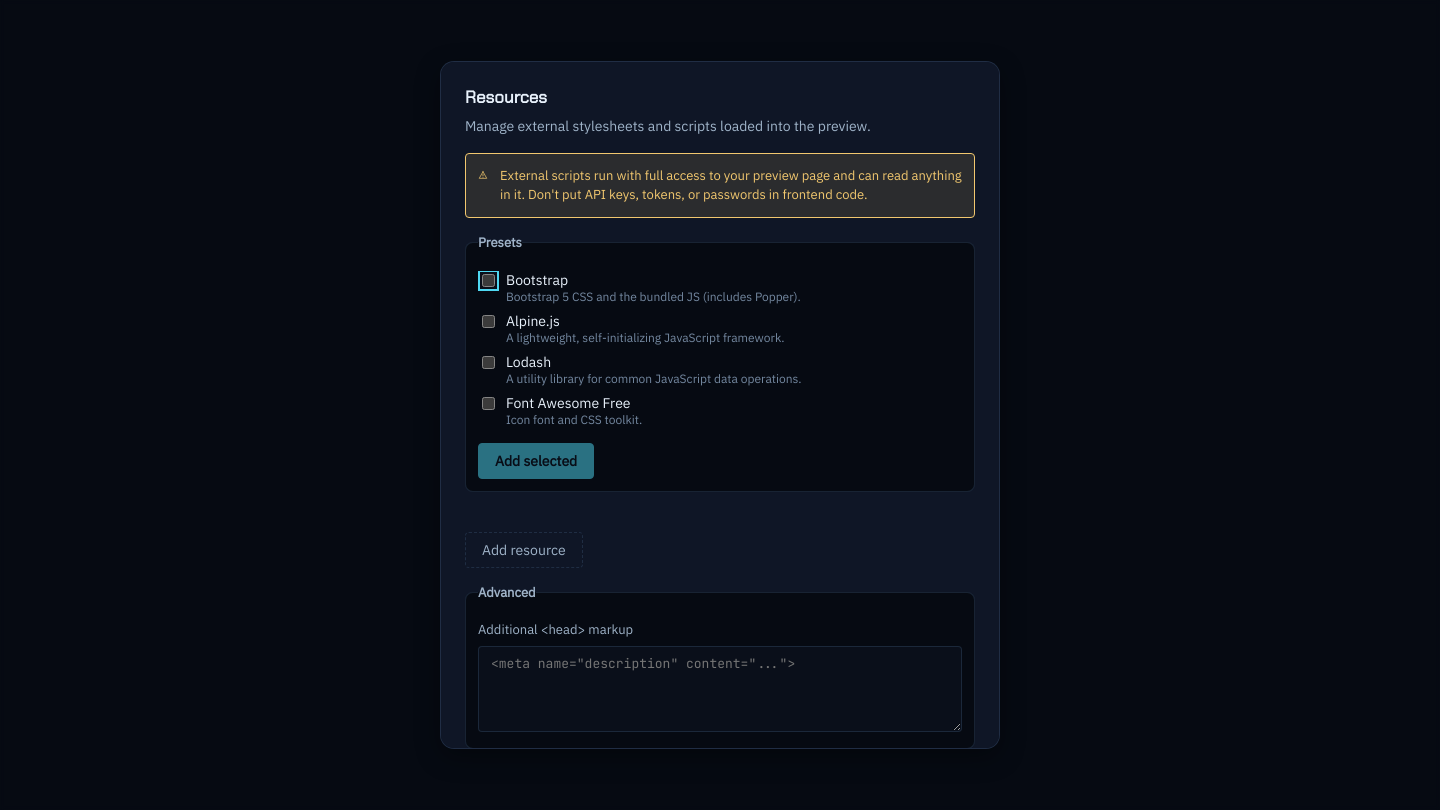
ResourceManagerDialog › adds a resource and displays it in the list
Click the button "Add resource" at (524, 550), box [465,532,583,568]
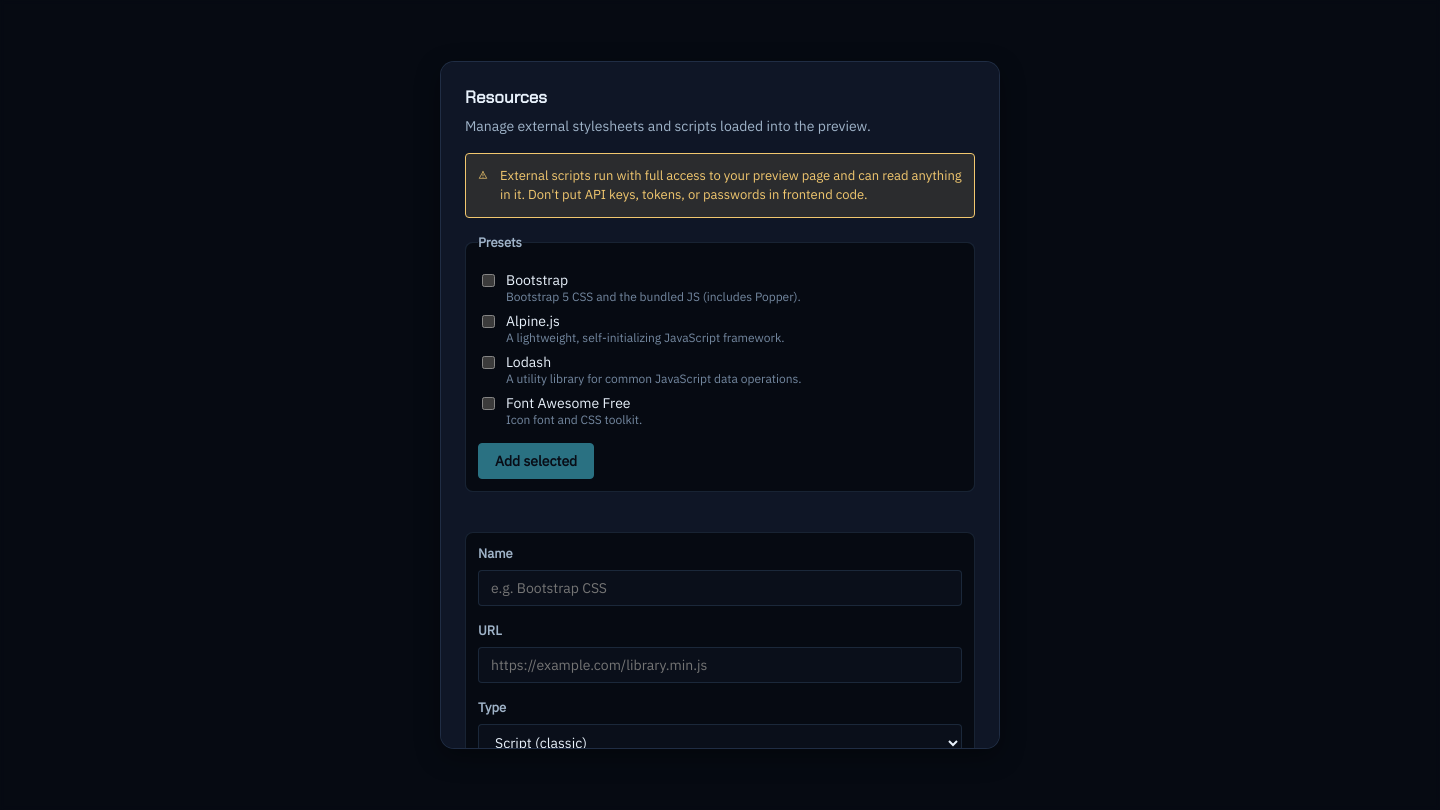
Type "My Script" into the field labelled "Name" at (720, 588), box [478,570,962,606]
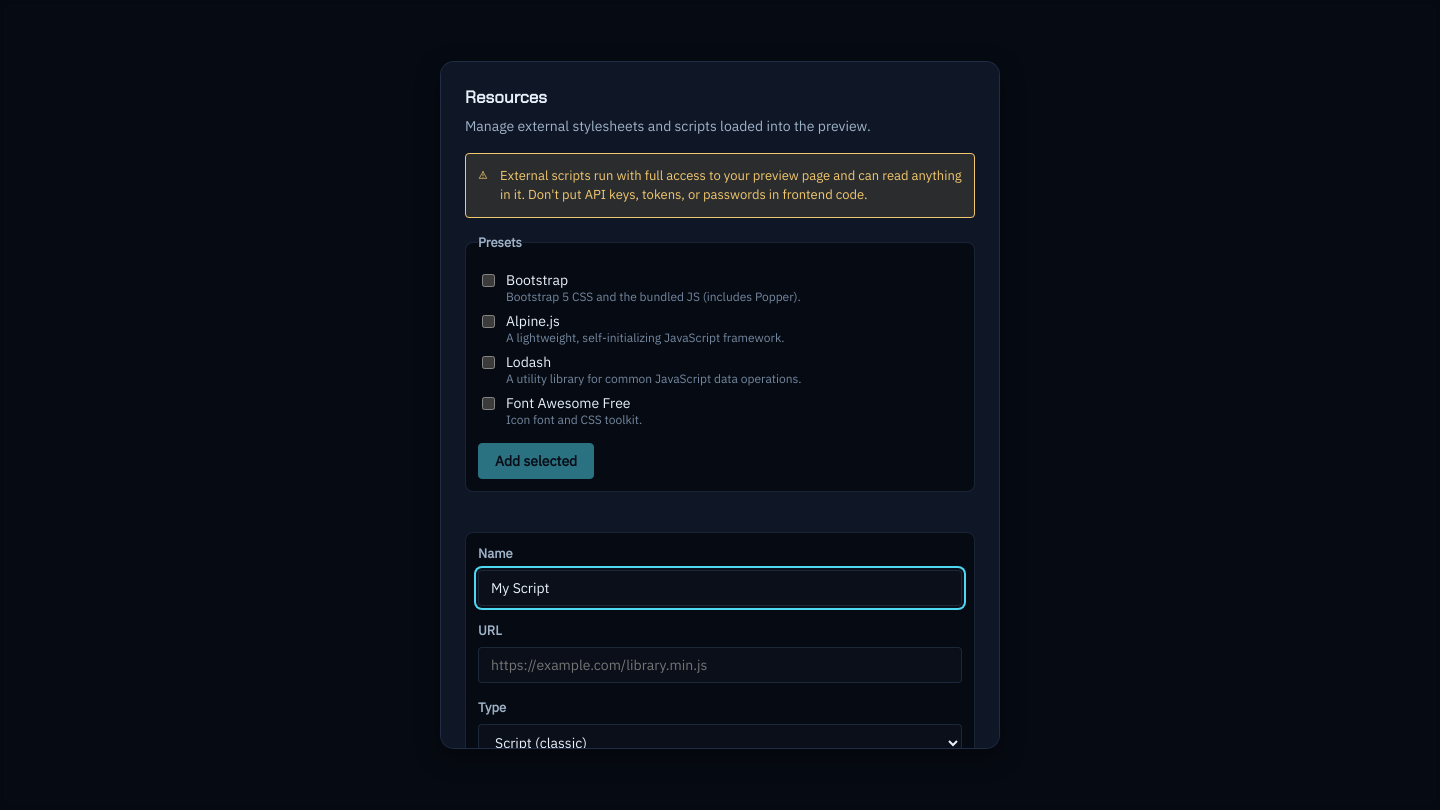
Type "https://example.com/script.js" into the field labelled "URL" at (720, 665), box [478,647,962,683]
(page scrolled)
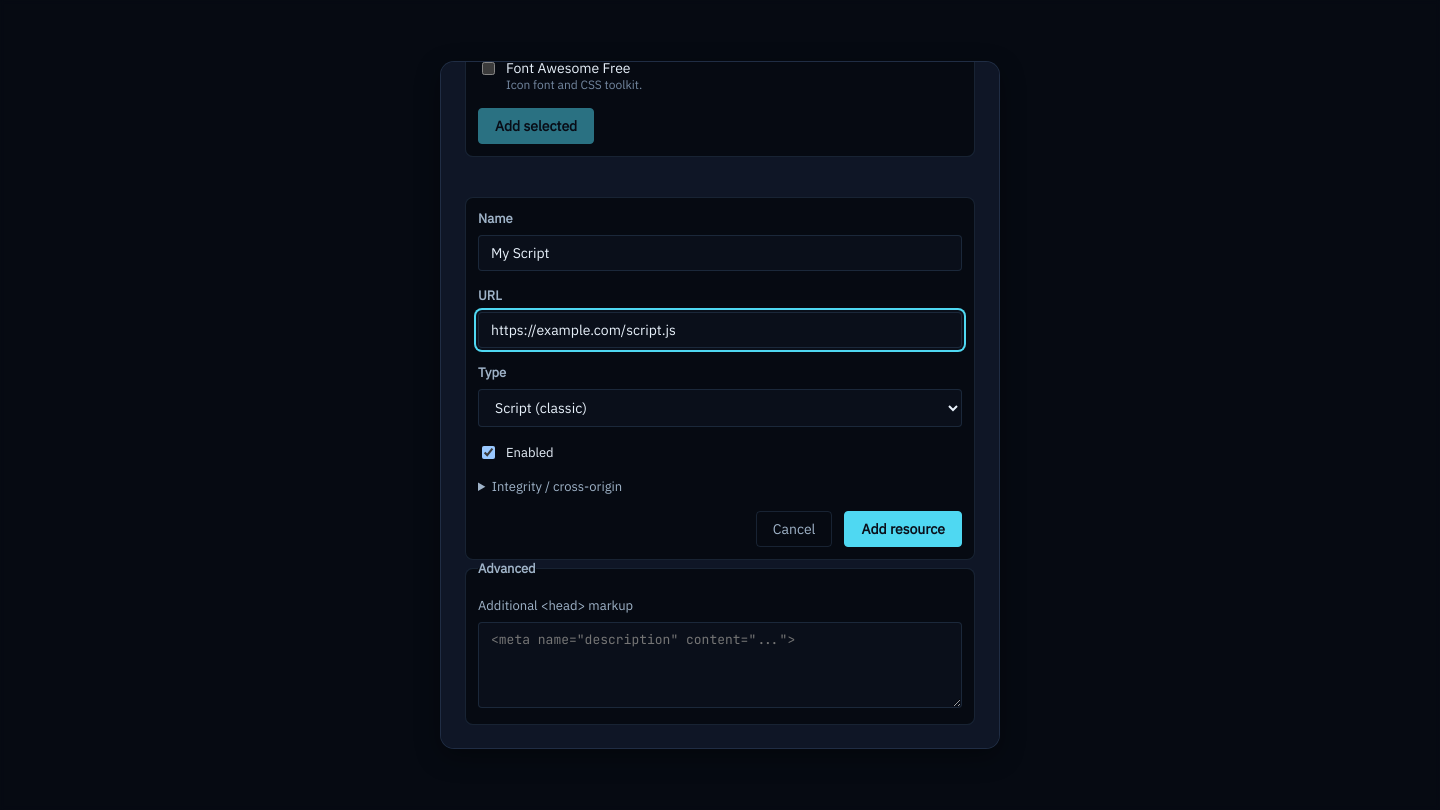
Click the button "Add resource" at (903, 529), box [844,511,962,547]
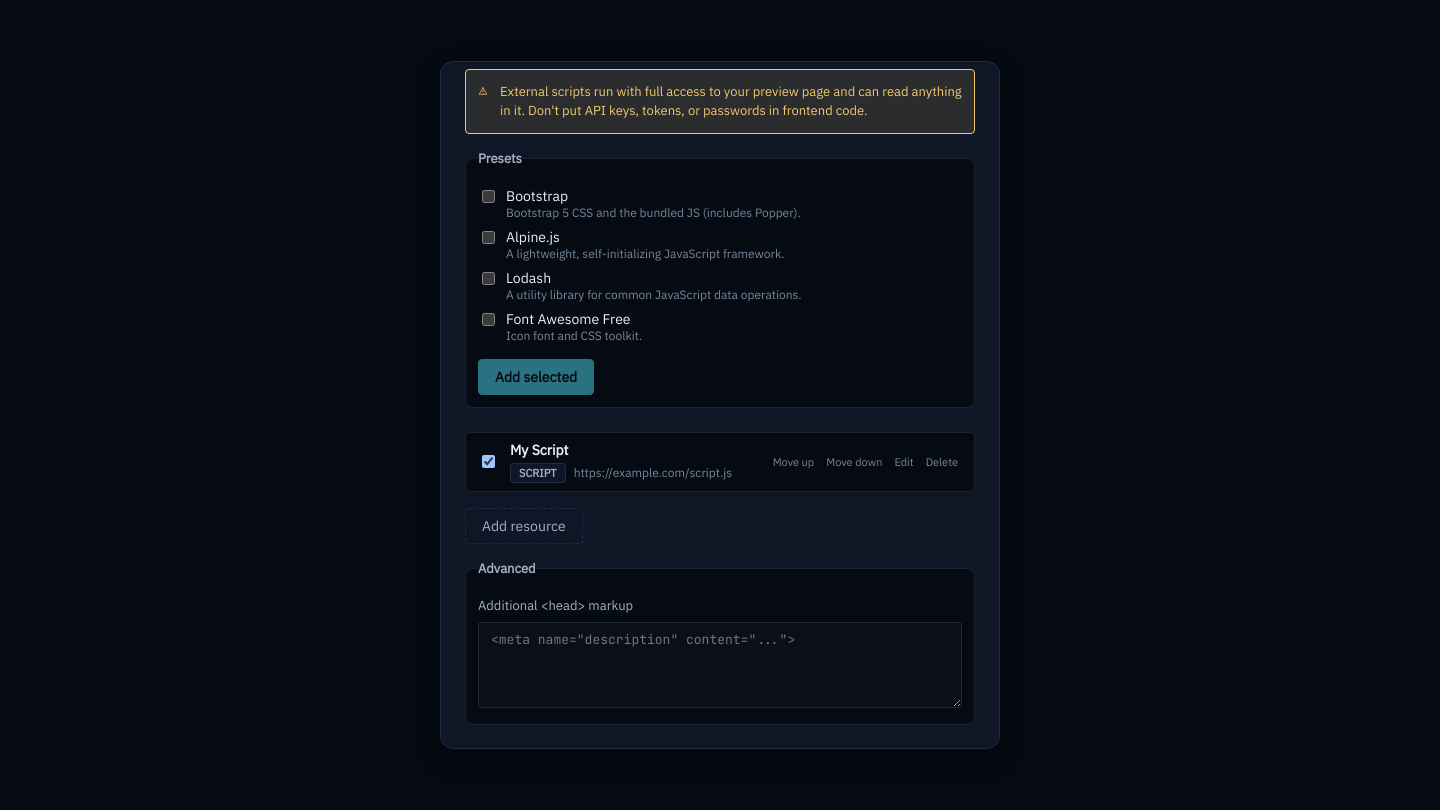
Expected: the text "My Script" is shown, [510,441,568,459]
Expected: the text "https://example.com/script.js" is shown, [574,465,732,480]
